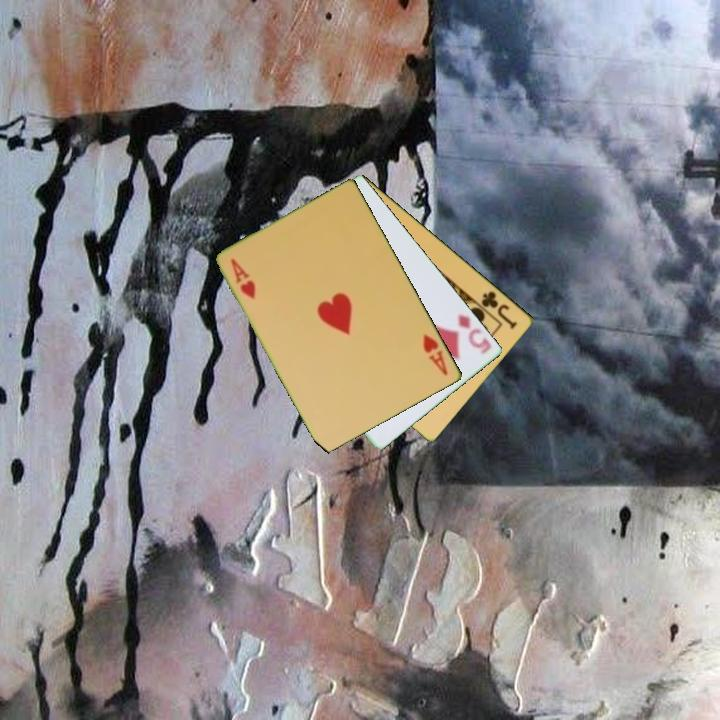5d: (454, 311, 495, 357)
Ah: (228, 254, 259, 303), (420, 330, 451, 378)
Jc: (478, 287, 520, 332)
